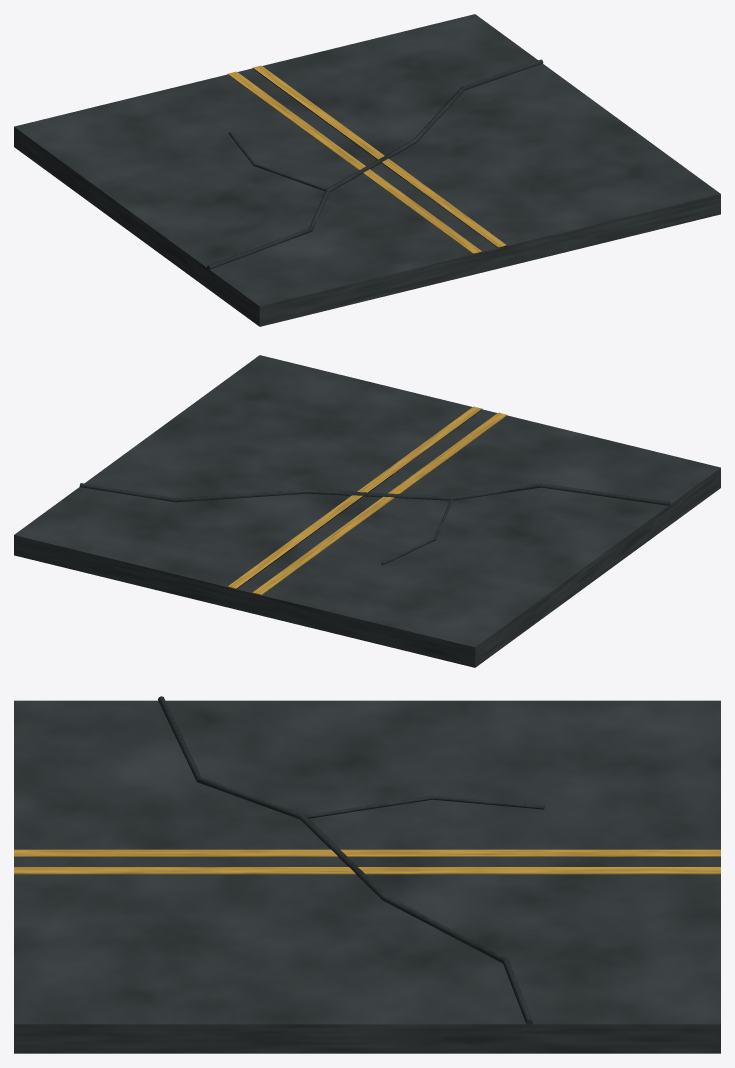
File: GR_AsphaltSection_03.glb
3 views of the same model, one above another, from view 1: azimuth 30°, elevation 25°; view 2: azimuth 150°, elevation 25°; view 3: azimuth 270°, elevation 25° (orthographic). The views are drawn at different scales.
Parts seen in each view (by area): view 1: Static; view 2: Static; view 3: Static.
Boxes of the visible parts, left/top/right/bottom form: Static: left=14, top=14, right=720, bottom=326; Static: left=14, top=355, right=720, bottom=667; Static: left=14, top=696, right=720, bottom=1053.
Size of the model in its own units: 2.6 by 0.127 by 2.4.
Materials: 1 (1 with a texture image).
